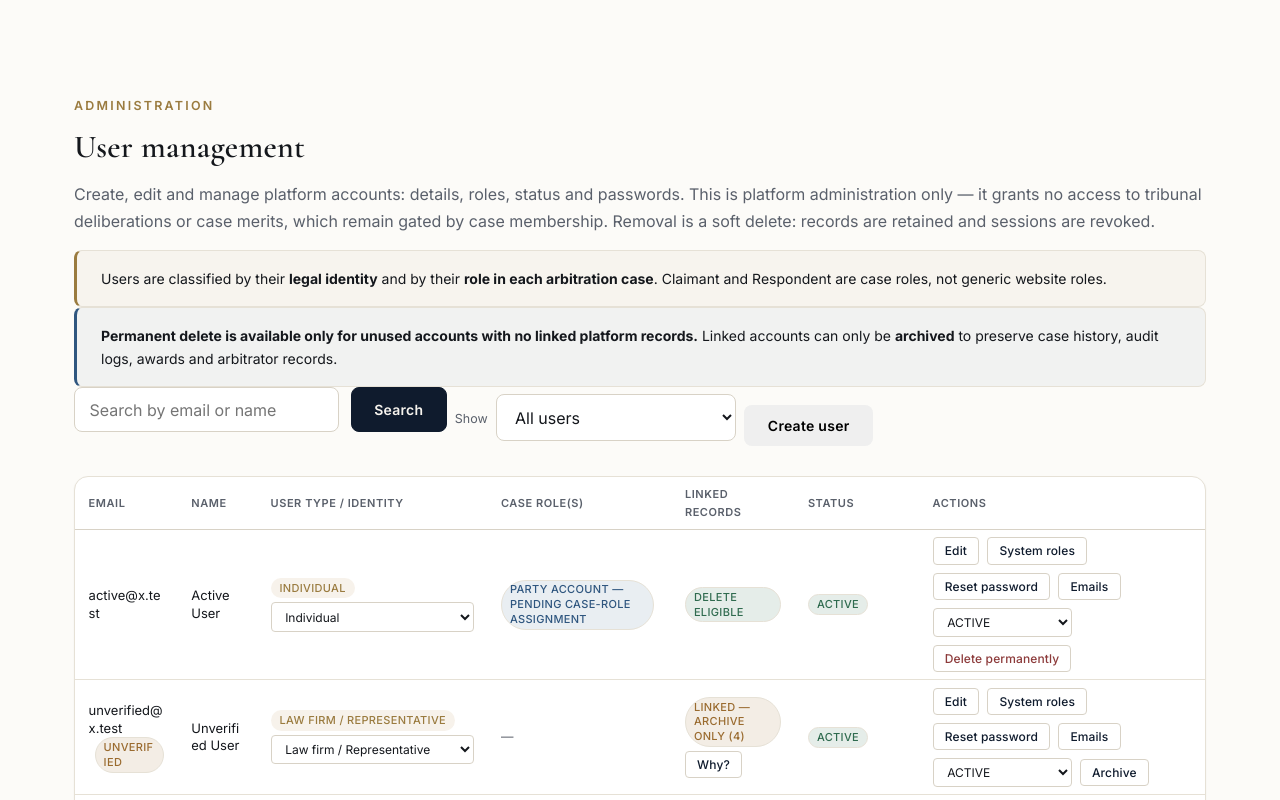
AdminUsers — active-row highlight › highlights the user row while the Emails panel is open and clears it on close
Click the button "Emails" in the row of "active@x.test" at (1089, 586), box [1058,572,1120,600]
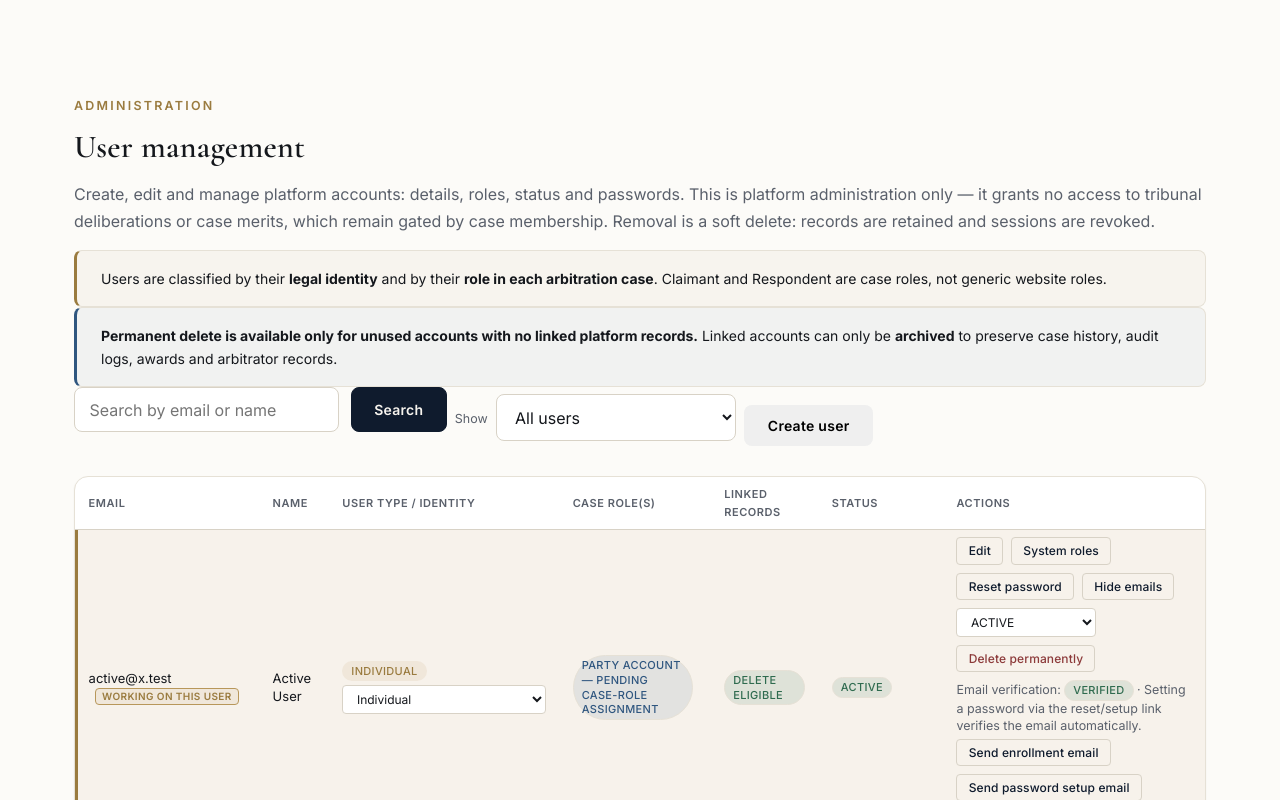
Result: the text "Working on this user" is shown at [95,688,239,705]
Click the button "Hide emails" at (1128, 586), box [1082,572,1174,600]
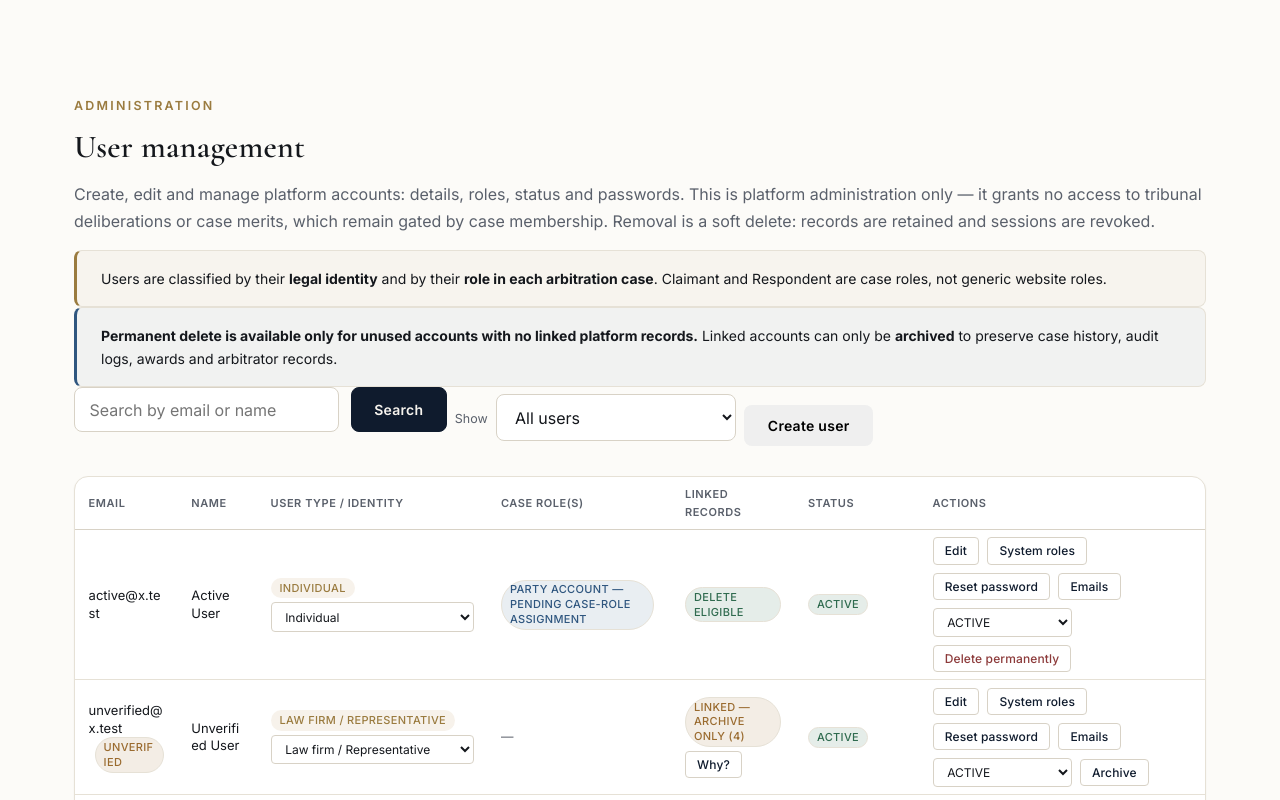
Result: the text "Working on this user" is gone
